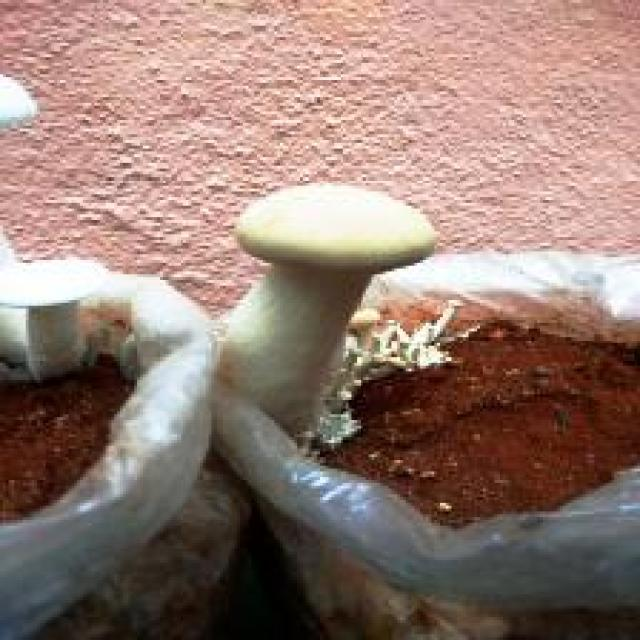chanterelle: (209, 177, 637, 637)
